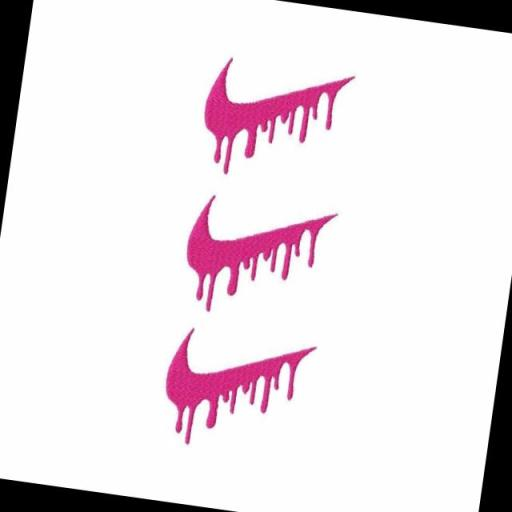Nike: (184, 196, 334, 290)
